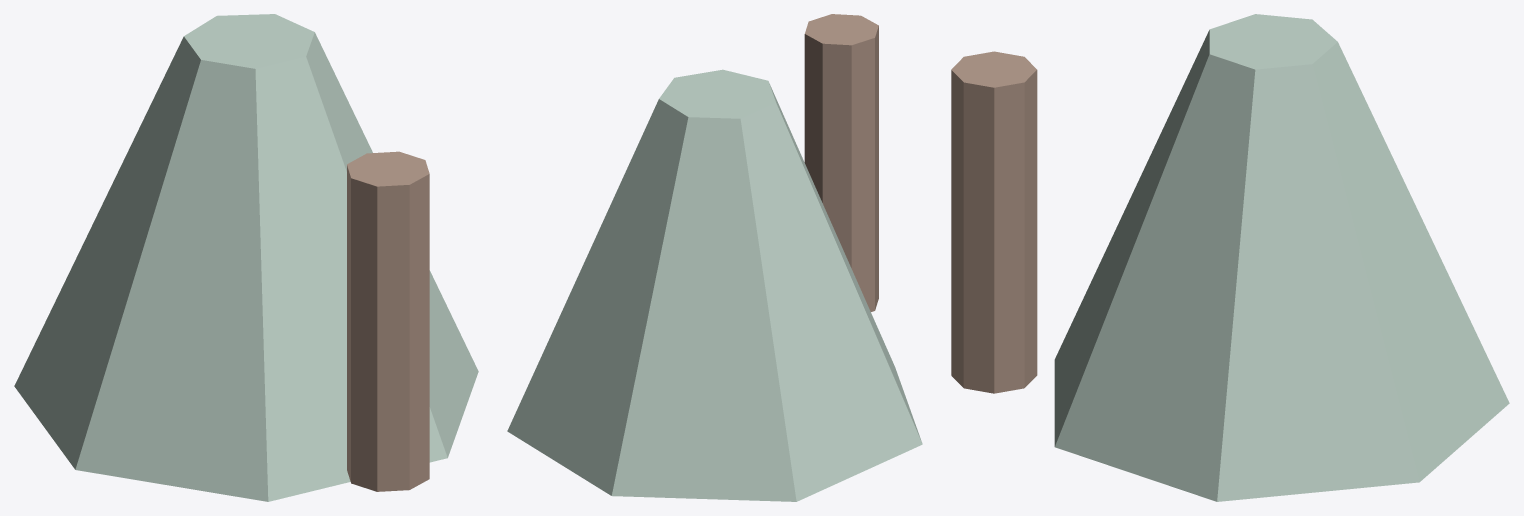
Rendered from tree-oak.glb.
3 views of the same model, side by side, from view 1: azimuth 30°, elevation 25°; view 2: azimuth 150°, elevation 25°; view 3: azimuth 270°, elevation 25° (orthographic). The views are drawn at different scales.
Visible parts, largest first — view 1: tree-oak; view 2: tree-oak; view 3: tree-oak.
Part boxes in pixels (bbox=[...]): tree-oak: bbox=[14, 14, 478, 501]; tree-oak: bbox=[507, 14, 922, 501]; tree-oak: bbox=[951, 14, 1509, 501].
Bounding box in the file's own units: 1.52 × 1.3 × 1.82.
